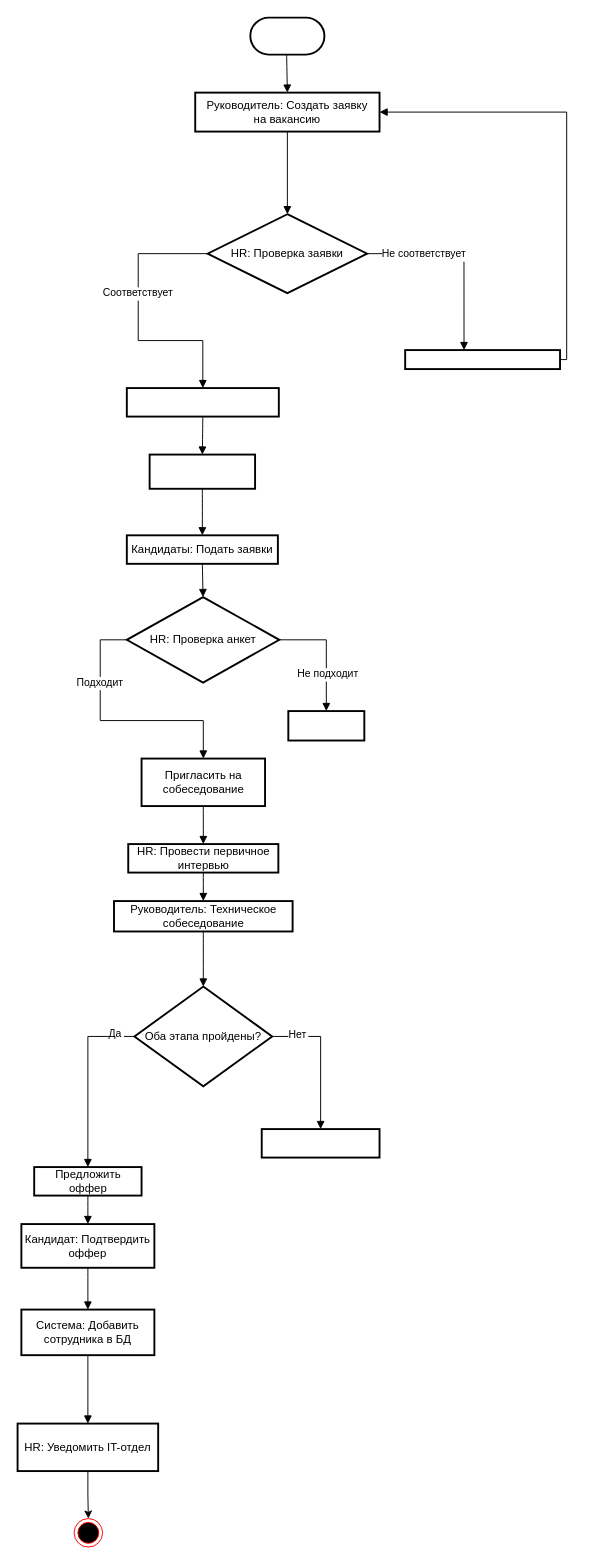
Image size: 591x1564. Some labels were removed from this diagram. The centre of each missing label's shape, as x and y in pixels:
"Начало" belongs at point (287, 35).
"Опубликовать вакансию" belongs at point (202, 471).
"Отклонить анкету" belongs at point (326, 725).
"Уведомить об отказе" belongs at point (320, 1143).
"Уведомить руководителя" belongs at point (482, 359).
"Утвердить заявку" belongs at point (202, 402).
